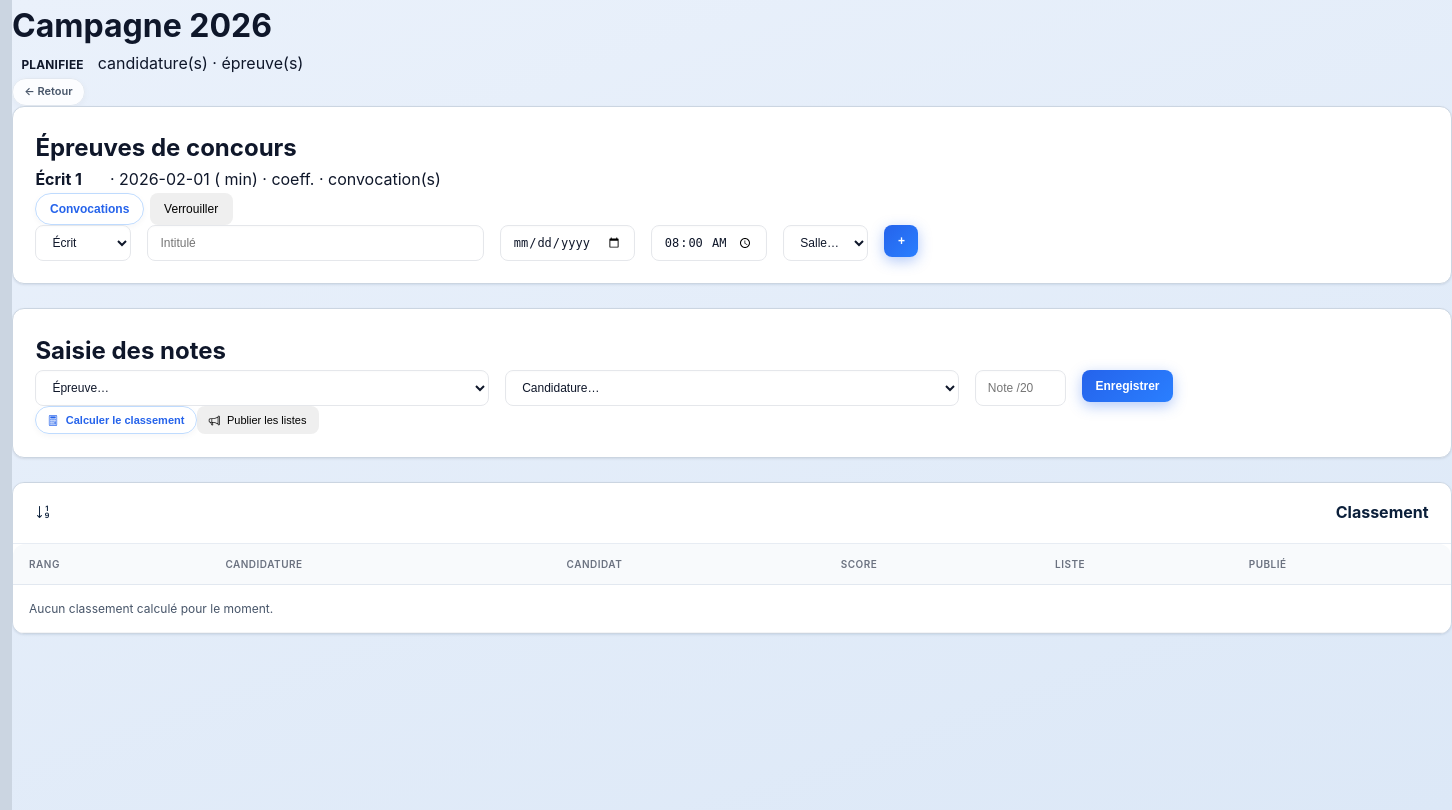
Scenario: §10.8 LOT 8 — actions Scolarité au clic (écritures API) › CampagneDetail : enregistre une note (POST) puis recharge et notifie
Select "Écrit 1 (2026-02-01)" in the 3rd dropdown at (262, 388), box top-left (35, 370), bottom-right (489, 406)
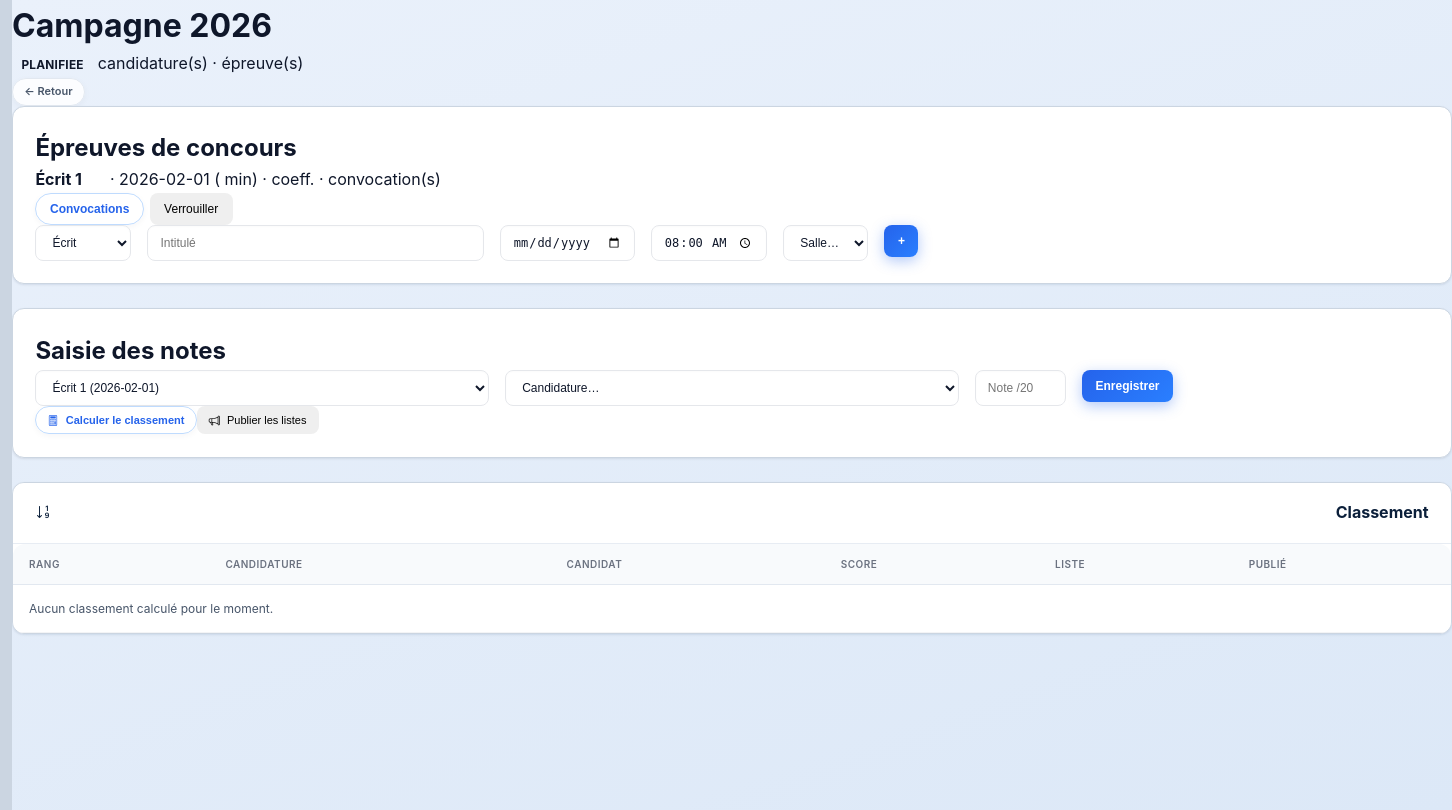
Select "C008 — Awa Koné" in the 4th dropdown at (732, 388), box top-left (505, 370), bottom-right (959, 406)
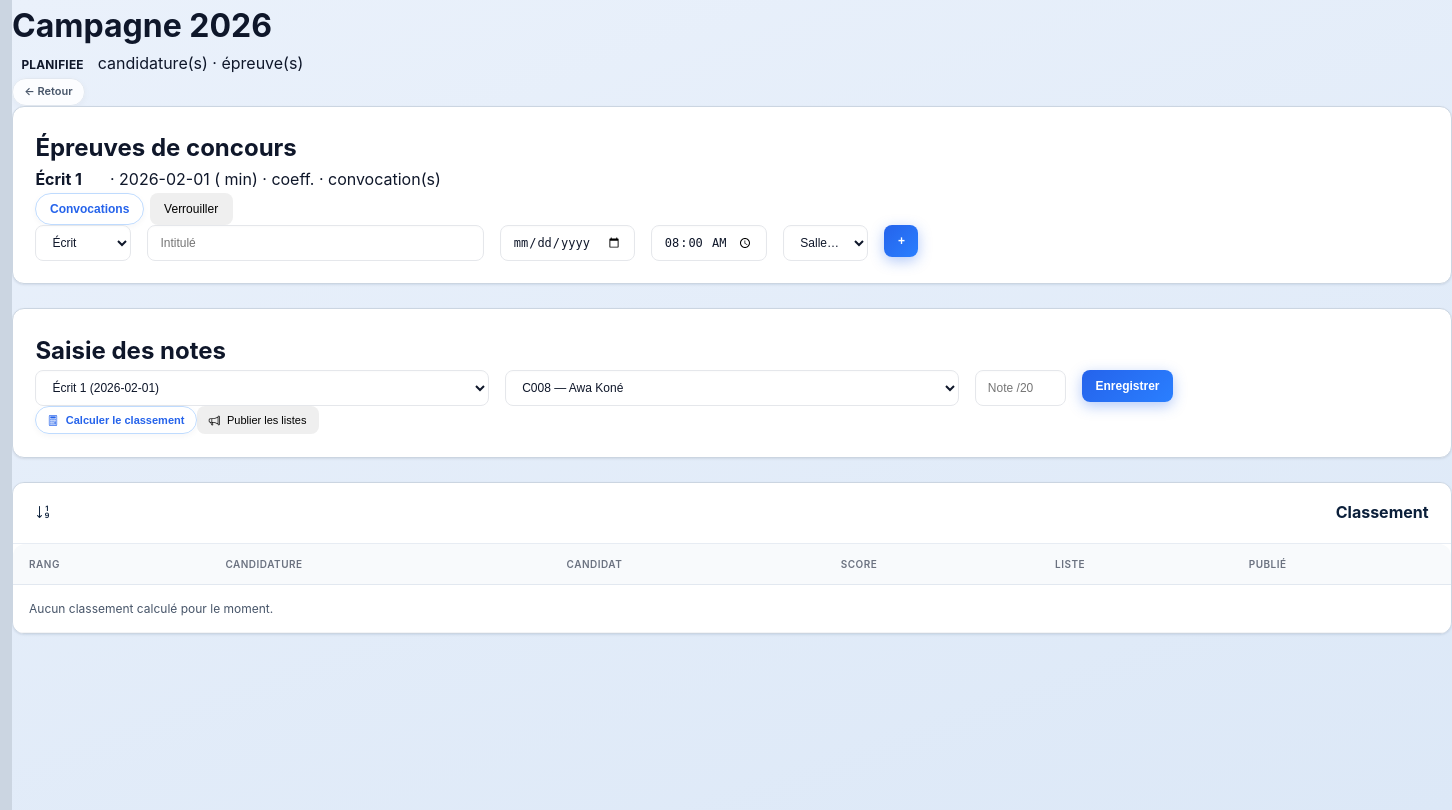
Type "12.5" into the number field with placeholder "Note /20" at (1020, 388), box top-left (975, 370), bottom-right (1066, 406)
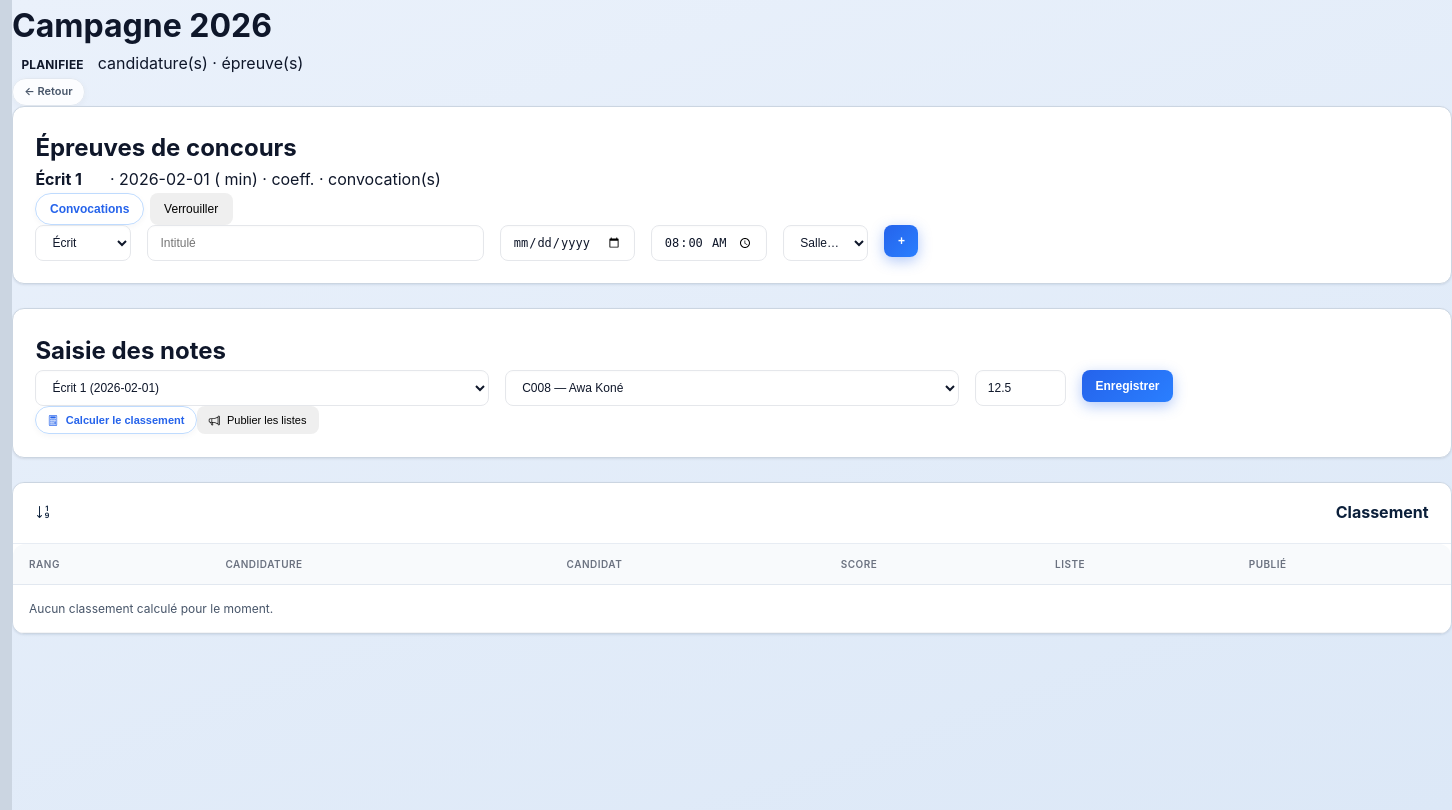
Click the button "Enregistrer" at (1128, 386), box top-left (1082, 370), bottom-right (1173, 402)
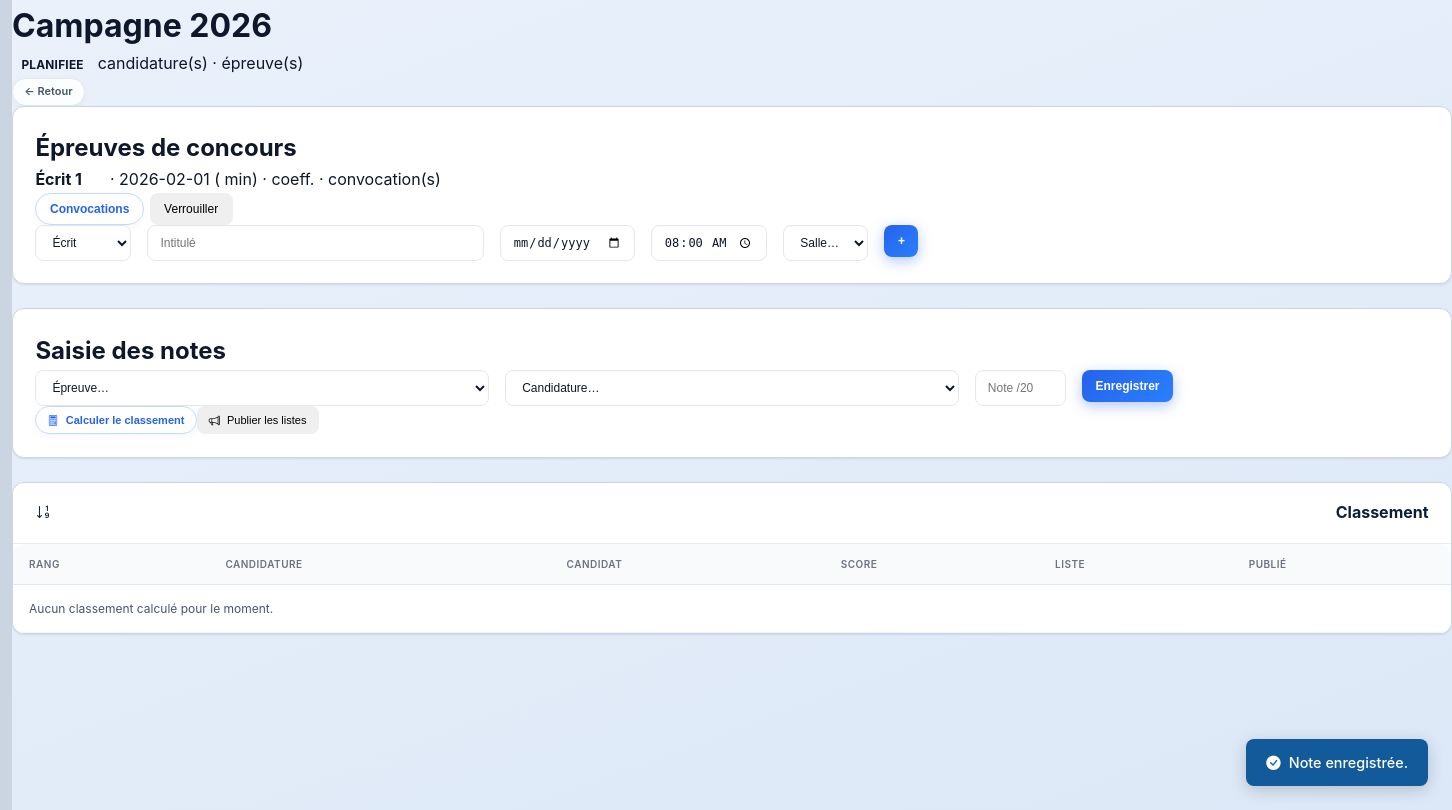
Expected: the text "Note enregistrée." is shown, top-left (1246, 739), bottom-right (1428, 786)
